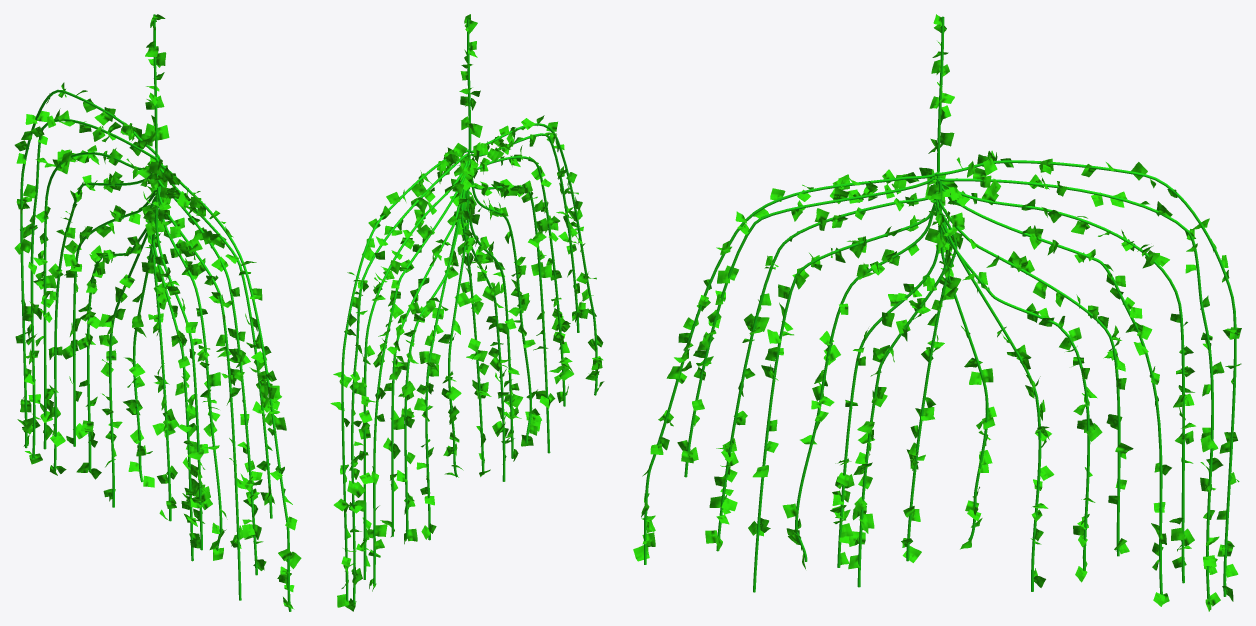
File: vine5.fbx
3 views of the same model, side by side, from view 1: azimuth 30°, elevation 25°; view 2: azimuth 150°, elevation 25°; view 3: azimuth 270°, elevation 25° (orthographic). The views are drawn at different scales.
Parts seen in each view (by area): view 1: BézierCurve.005; view 2: BézierCurve.005; view 3: BézierCurve.005.
Boxes of the visible parts, left/top/right/bottom form: BézierCurve.005: left=14, top=14, right=301, bottom=611; BézierCurve.005: left=330, top=14, right=604, bottom=611; BézierCurve.005: left=633, top=14, right=1241, bottom=611.
Bounding box in the file's own units: 34.37 × 575 × 533.
